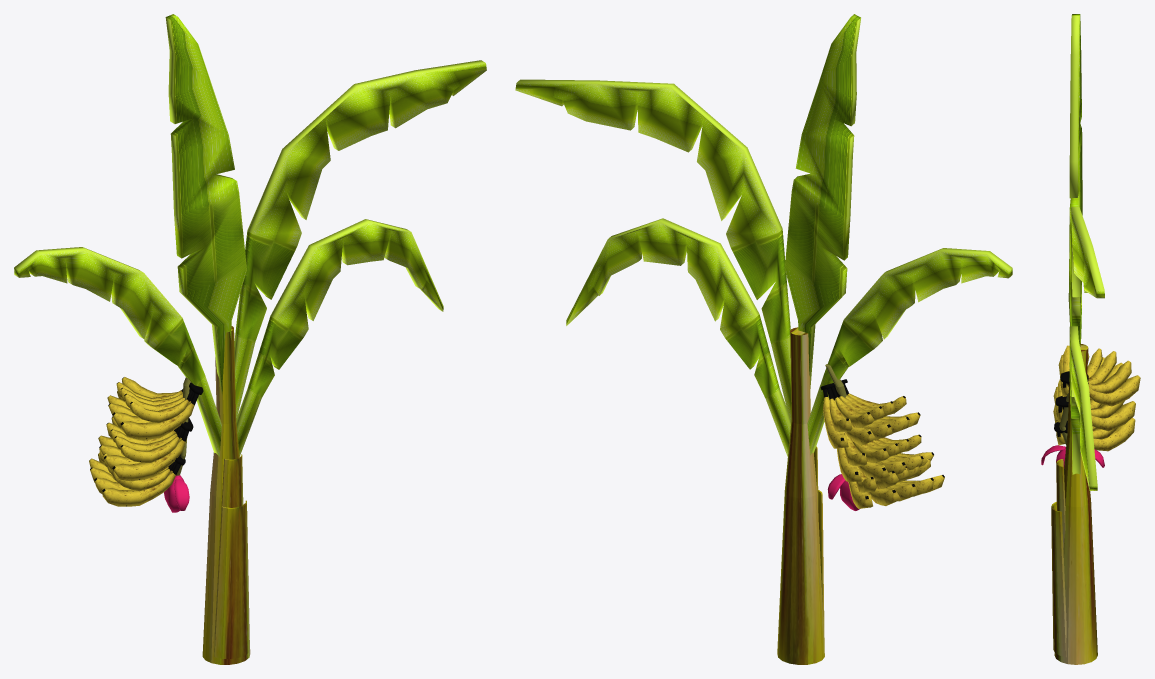
The model's file is Bananeira.fbx.
3 renders of one model, left to right at view 1: azimuth 30°, elevation 25°; view 2: azimuth 150°, elevation 25°; view 3: azimuth 270°, elevation 25°, orthographic. The views are drawn at different scales.
Parts seen in each view (by area): view 1: CauleBananeira; view 2: CauleBananeira; view 3: CauleBananeira.
Part boxes in pixels (x1,y1,x2,y2): CauleBananeira: (14, 14, 486, 664); CauleBananeira: (515, 14, 1012, 664); CauleBananeira: (1041, 14, 1140, 664).
Size of the model in its own units: 476 by 617 by 90.23.
